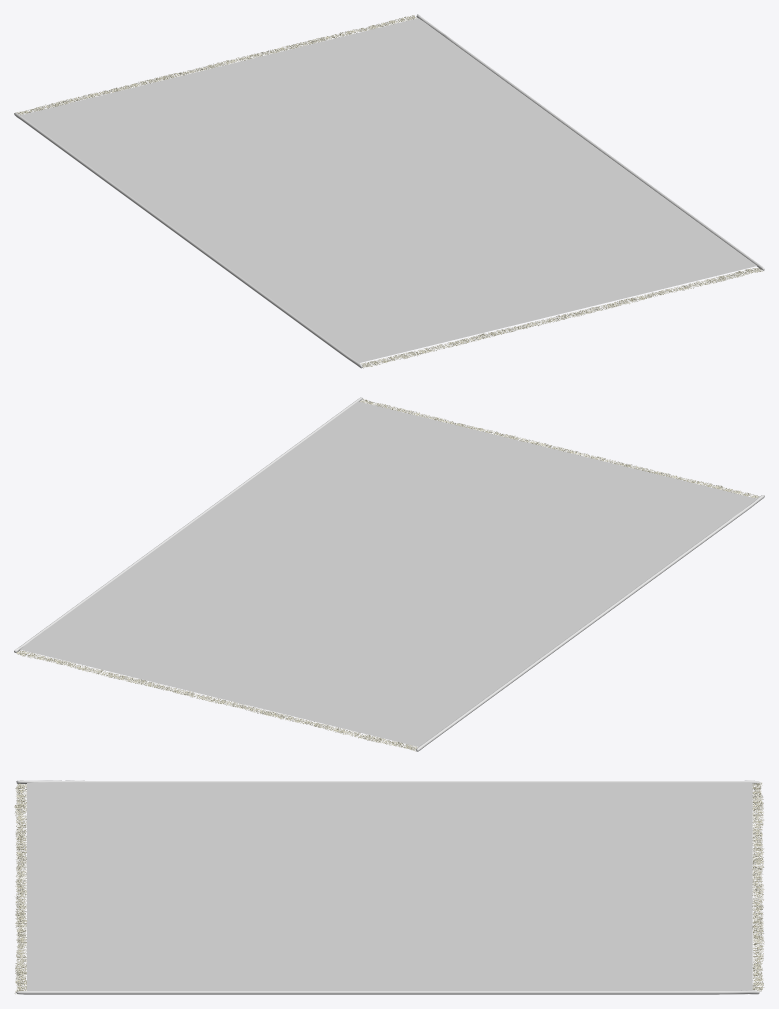
The model's file is alder-compact.glb.
The picture shows the model from 3 angles, top to bottom: view 1: azimuth 30°, elevation 25°; view 2: azimuth 150°, elevation 25°; view 3: azimuth 270°, elevation 25°; orthographic projection. The views are drawn at different scales.
Visible parts, largest first — view 1: Object_7.002, Object_7.003, Object_7.004; view 2: Object_7.002, Object_7.003, Object_7.004; view 3: Object_7.002, Object_7.004, Object_7.003.
Part boxes in pixels (x1=…): Object_7.002: x1=21, y1=18, x2=756, y2=362; Object_7.003: x1=14, y1=15, x2=762, y2=368; Object_7.004: x1=14, y1=14, x2=764, y2=368; Object_7.002: x1=20, y1=401, x2=756, y2=746; Object_7.003: x1=16, y1=399, x2=759, y2=751; Object_7.004: x1=14, y1=397, x2=764, y2=751; Object_7.002: x1=27, y1=782, x2=752, y2=990; Object_7.004: x1=16, y1=780, x2=760, y2=994; Object_7.003: x1=14, y1=782, x2=764, y2=994.
Size of the model in its own units: 1.52 by 0.0144 by 2.27.
3 materials, 1 textured.
